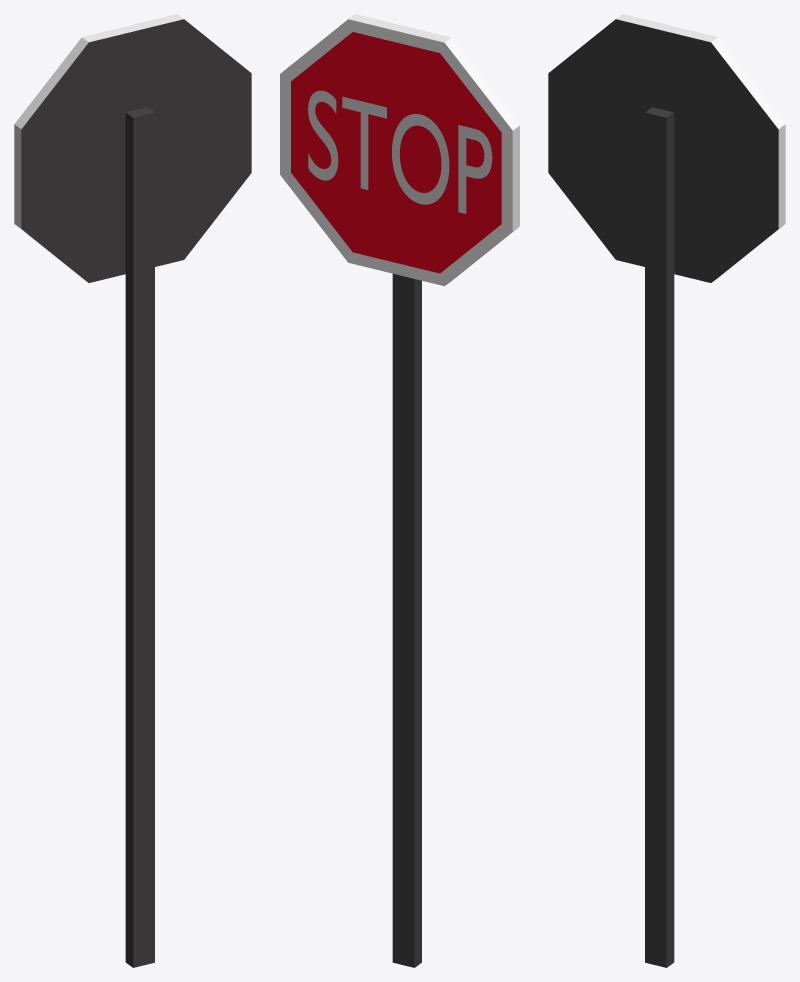
File: StopSign.fbx
The picture shows the model from 3 angles, left to right: view 1: azimuth 30°, elevation 25°; view 2: azimuth 150°, elevation 25°; view 3: azimuth 330°, elevation 25°; orthographic projection.
Parts seen in each view (by area): view 1: Cube; view 2: Cube, Text; view 3: Cube.
Boxes of the visible parts, x1,y1,x2,y2 form: Cube: [14, 14, 251, 967]; Cube: [280, 14, 519, 967]; Text: [308, 90, 492, 213]; Cube: [548, 14, 785, 967].
Bounding box in the file's own units: 255 × 984 × 28.42.
